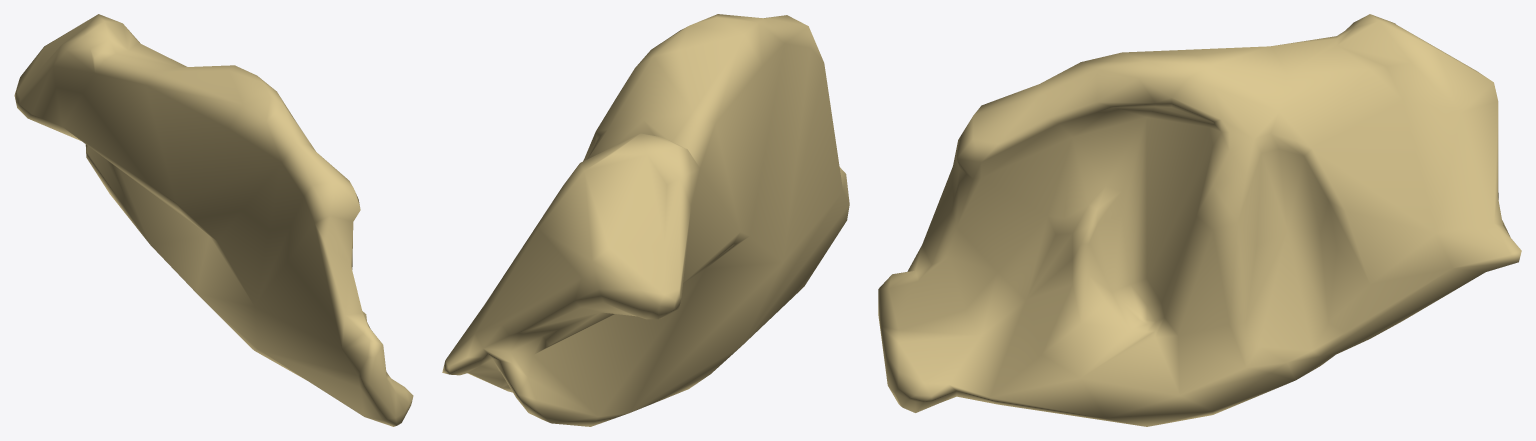
The picture shows the model from 3 angles, left to right: view 1: azimuth 30°, elevation 25°; view 2: azimuth 150°, elevation 25°; view 3: azimuth 270°, elevation 25°; orthographic projection. The views are drawn at different scales.
Parts seen in each view (by area): view 1: 右侧泪骨; view 2: 右侧泪骨; view 3: 右侧泪骨.
Boxes of the visible parts, x1=… form: 右侧泪骨: x1=14, y1=14, x2=413, y2=426; 右侧泪骨: x1=442, y1=14, x2=849, y2=426; 右侧泪骨: x1=878, y1=14, x2=1521, y2=426.
Bounding box in the file's own units: 0.0157 × 0.0217 × 0.037.
